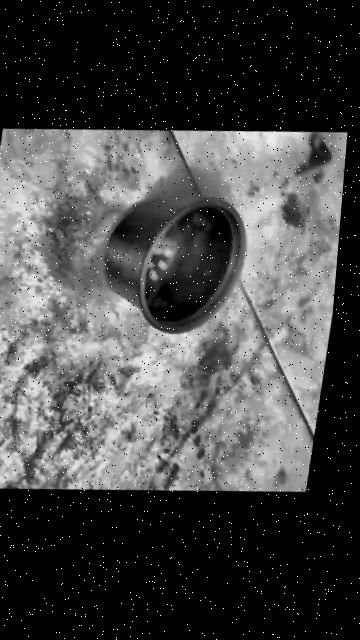pot: (92, 189, 253, 341)
